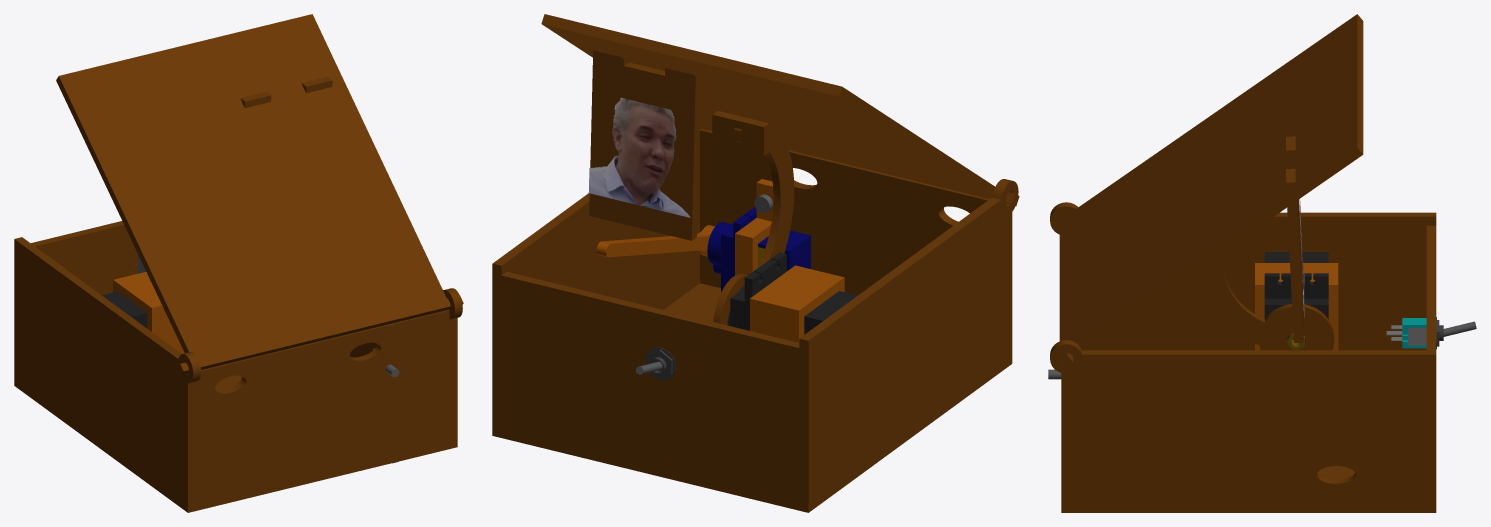
The model's file is duque_useless.fbx.
3 views of the same model, side by side, from view 1: azimuth 30°, elevation 25°; view 2: azimuth 150°, elevation 25°; view 3: azimuth 270°, elevation 25° (orthographic). The views are drawn at different scales.
Visible parts, largest first — view 1: Group9, asd1, E1, Diferencia1, A1, F1, pata_2_1, pata_1_2, s1, Group1; view 2: Diferencia1, E1, asd1, Group9, F1, s1, Group7, A1, G1, Pequeno1, Group1, pata_2_1 (+5 smaller); view 3: F1, Group9, E1, G1, Group1, s1, Diferencia1, A1, Group12, pata_2_1, pata_1_1, asd1.
Boxes of the visible parts, x1=… form: Group9: x1=56, y1=14, x2=463, y2=375; asd1: x1=183, y1=309, x2=457, y2=502; E1: x1=14, y1=237, x2=201, y2=512; Diferencia1: x1=14, y1=221, x2=137, y2=361; A1: x1=50, y1=375, x2=449, y2=510; F1: x1=349, y1=288, x2=462, y2=448; pata_2_1: x1=117, y1=272, x2=165, y2=313; pata_1_2: x1=147, y1=302, x2=184, y2=353; s1: x1=240, y1=77, x2=332, y2=107; Group1: x1=102, y1=291, x2=147, y2=328; Diferencia1: x1=492, y1=271, x2=813, y2=500; E1: x1=799, y1=179, x2=1018, y2=512; asd1: x1=700, y1=129, x2=1012, y2=329; Group9: x1=541, y1=14, x2=1019, y2=205; F1: x1=492, y1=129, x2=700, y2=437; s1: x1=589, y1=50, x2=700, y2=240; Group7: x1=588, y1=97, x2=690, y2=217; A1: x1=501, y1=283, x2=970, y2=510; G1: x1=713, y1=125, x2=794, y2=325; Pequeno1: x1=707, y1=207, x2=810, y2=292; Group1: x1=727, y1=252, x2=857, y2=334; pata_2_1: x1=755, y1=268, x2=839, y2=316; F1: x1=1050, y1=340, x2=1436, y2=512; Group9: x1=1059, y1=14, x2=1363, y2=367; E1: x1=1050, y1=202, x2=1436, y2=350; G1: x1=1198, y1=252, x2=1334, y2=350; Group1: x1=1264, y1=252, x2=1328, y2=349; s1: x1=1286, y1=136, x2=1303, y2=342; Diferencia1: x1=1426, y1=225, x2=1436, y2=483; A1: x1=1139, y1=466, x2=1358, y2=512; Group12: x1=1386, y1=318, x2=1426, y2=348; pata_2_1: x1=1255, y1=263, x2=1338, y2=281; pata_1_1: x1=1328, y1=263, x2=1338, y2=350; asd1: x1=1061, y1=389, x2=1071, y2=478.
Size of the model in its own units: 107 by 127 by 131.
